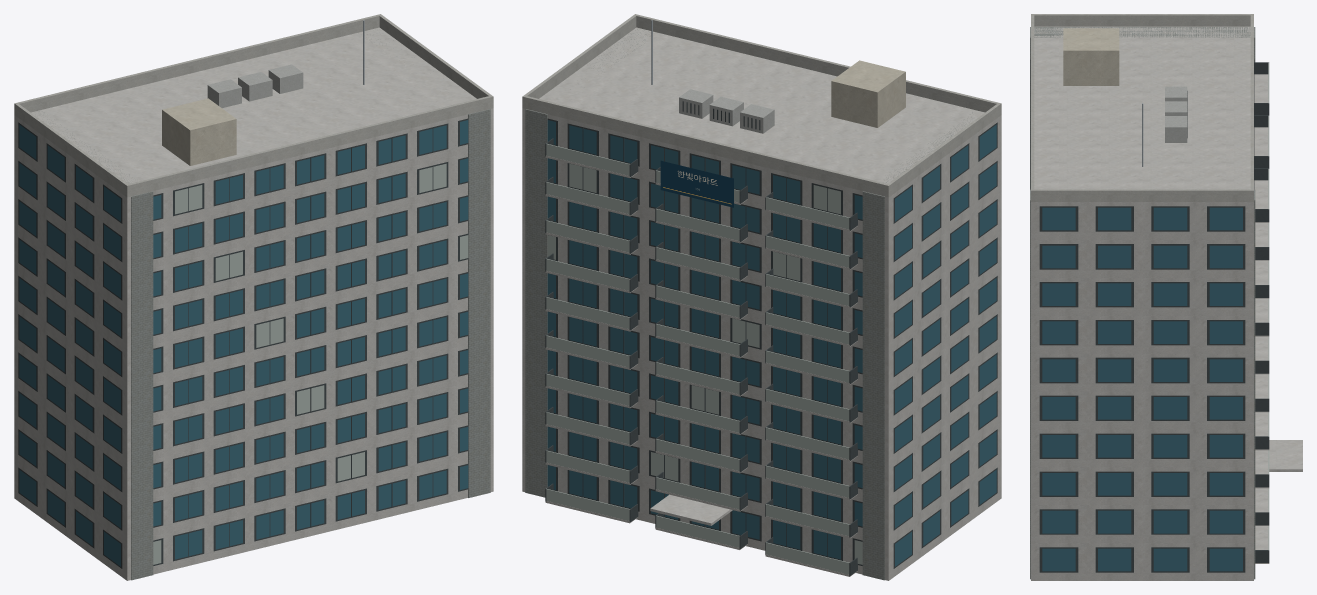
The model's file is apartment_slab.glb.
The picture shows the model from 3 angles, left to right: view 1: azimuth 30°, elevation 25°; view 2: azimuth 150°, elevation 25°; view 3: azimuth 270°, elevation 25°; orthographic projection.
Parts seen in each view (by area): view 1: apartment_slab; view 2: apartment_slab; view 3: apartment_slab.
Part boxes in pixels (x1,y1,x2,y2): apartment_slab: [14, 14, 493, 580]; apartment_slab: [522, 14, 1001, 580]; apartment_slab: [1030, 14, 1302, 580].
Size of the model in its own units: 30.09 by 35 by 19.57.
